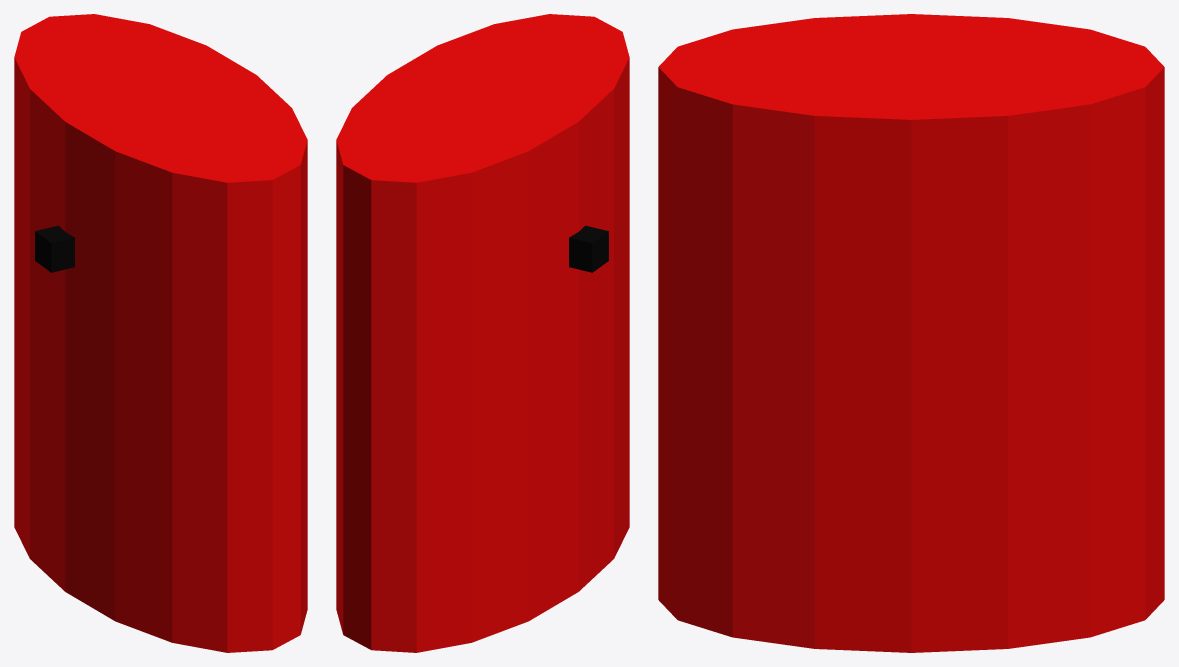
The model's file is button.gltf.
The picture shows the model from 3 angles, left to right: view 1: azimuth 30°, elevation 25°; view 2: azimuth 150°, elevation 25°; view 3: azimuth 270°, elevation 25°; orthographic projection. The views are drawn at different scales.
Visible parts, largest first — view 1: 圆柱体, 立方体; view 2: 圆柱体, 立方体; view 3: 圆柱体.
Boxes of the visible parts, x1=… form: 圆柱体: x1=14, y1=14, x2=307, y2=652; 立方体: x1=35, y1=225, x2=74, y2=272; 圆柱体: x1=336, y1=14, x2=629, y2=652; 立方体: x1=569, y1=225, x2=608, y2=272; 圆柱体: x1=658, y1=14, x2=1164, y2=652.
Size of the model in its own units: 111 by 235 by 202.
